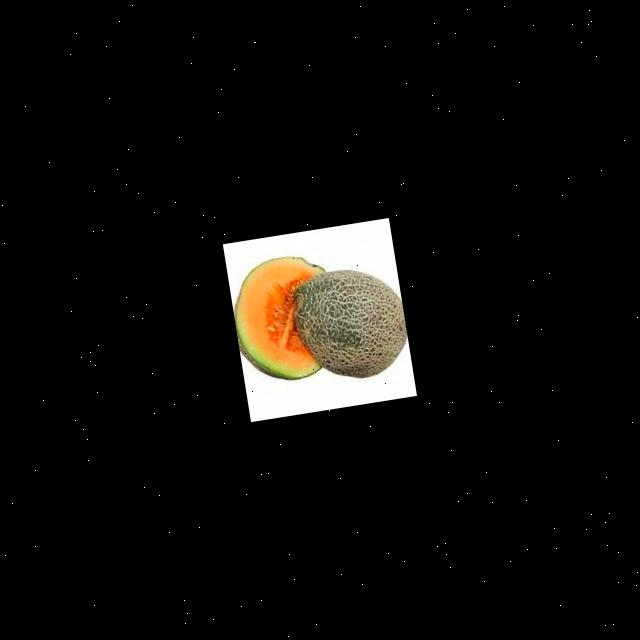Hami Melon: (226, 252, 340, 388), (291, 261, 413, 386)
